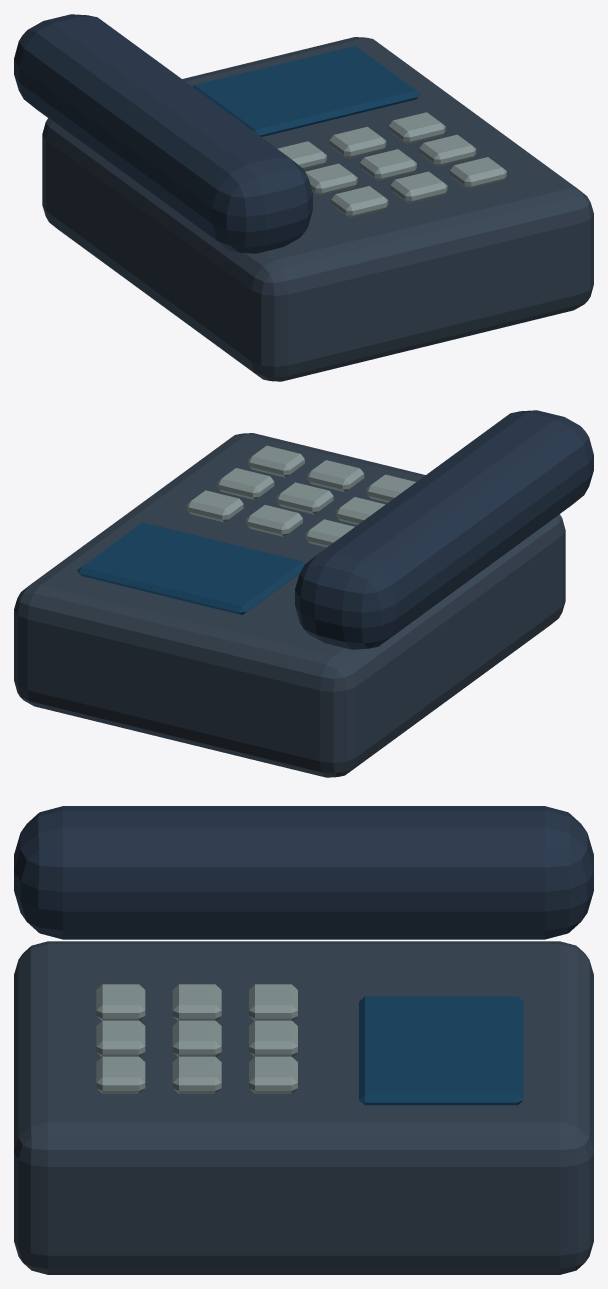
File: desk_phone.glb
The picture shows the model from 3 angles, top to bottom: view 1: azimuth 30°, elevation 25°; view 2: azimuth 150°, elevation 25°; view 3: azimuth 270°, elevation 25°; orthographic projection. The views are drawn at different scales.
Visible parts, largest first — view 1: desk_phone__metal, desk_phone__navy_dark, desk_phone__screen, desk_phone__metal_light; view 2: desk_phone__metal, desk_phone__navy_dark, desk_phone__screen, desk_phone__metal_light; view 3: desk_phone__metal, desk_phone__navy_dark, desk_phone__screen, desk_phone__metal_light.
Part boxes in pixels (bbox=[...]): desk_phone__metal: bbox=[42, 37, 593, 381]; desk_phone__navy_dark: bbox=[14, 14, 312, 253]; desk_phone__screen: bbox=[193, 45, 420, 136]; desk_phone__metal_light: bbox=[277, 112, 506, 217]; desk_phone__metal: bbox=[14, 433, 565, 777]; desk_phone__navy_dark: bbox=[295, 410, 593, 649]; desk_phone__screen: bbox=[77, 522, 305, 614]; desk_phone__metal_light: bbox=[186, 445, 415, 547]; desk_phone__metal: bbox=[14, 941, 593, 1274]; desk_phone__navy_dark: bbox=[14, 806, 593, 939]; desk_phone__screen: bbox=[359, 996, 523, 1105]; desk_phone__metal_light: bbox=[96, 984, 297, 1093].
Bounding box in the file's own units: 0.1755 × 0.0975 × 0.19.
